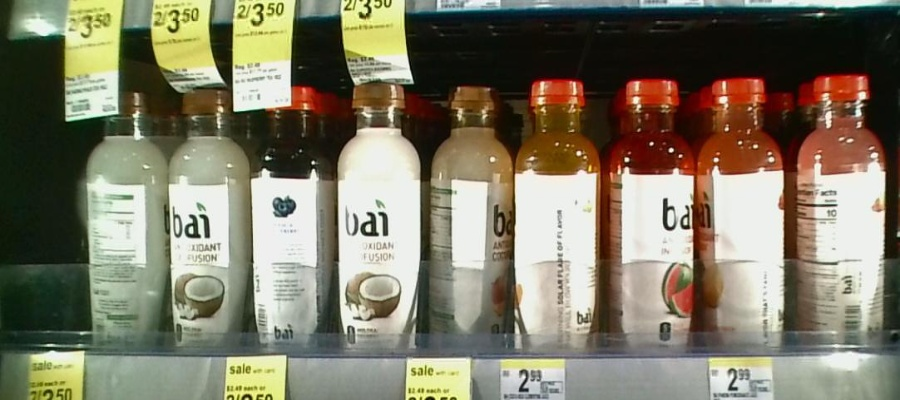bottle: (697, 66, 797, 357), (799, 64, 889, 352), (605, 74, 696, 356), (514, 68, 602, 356), (336, 85, 423, 351), (250, 79, 332, 358), (428, 80, 512, 348), (81, 85, 165, 351), (166, 83, 245, 354)
